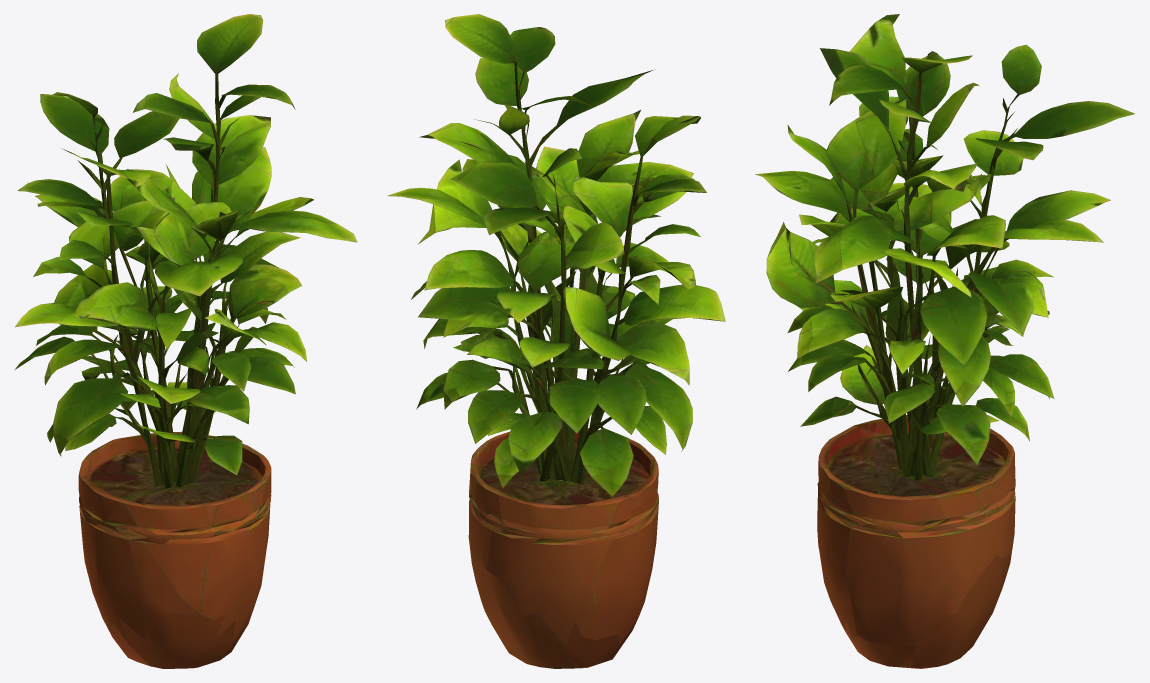
The model's file is plant_tall.glb.
3 views of the same model, side by side, from view 1: azimuth 30°, elevation 25°; view 2: azimuth 150°, elevation 25°; view 3: azimuth 270°, elevation 25° (orthographic). The views are drawn at different scales.
Size of the model in its own units: 0.9816 by 1.9 by 1.03.
1 material, 1 textured.
